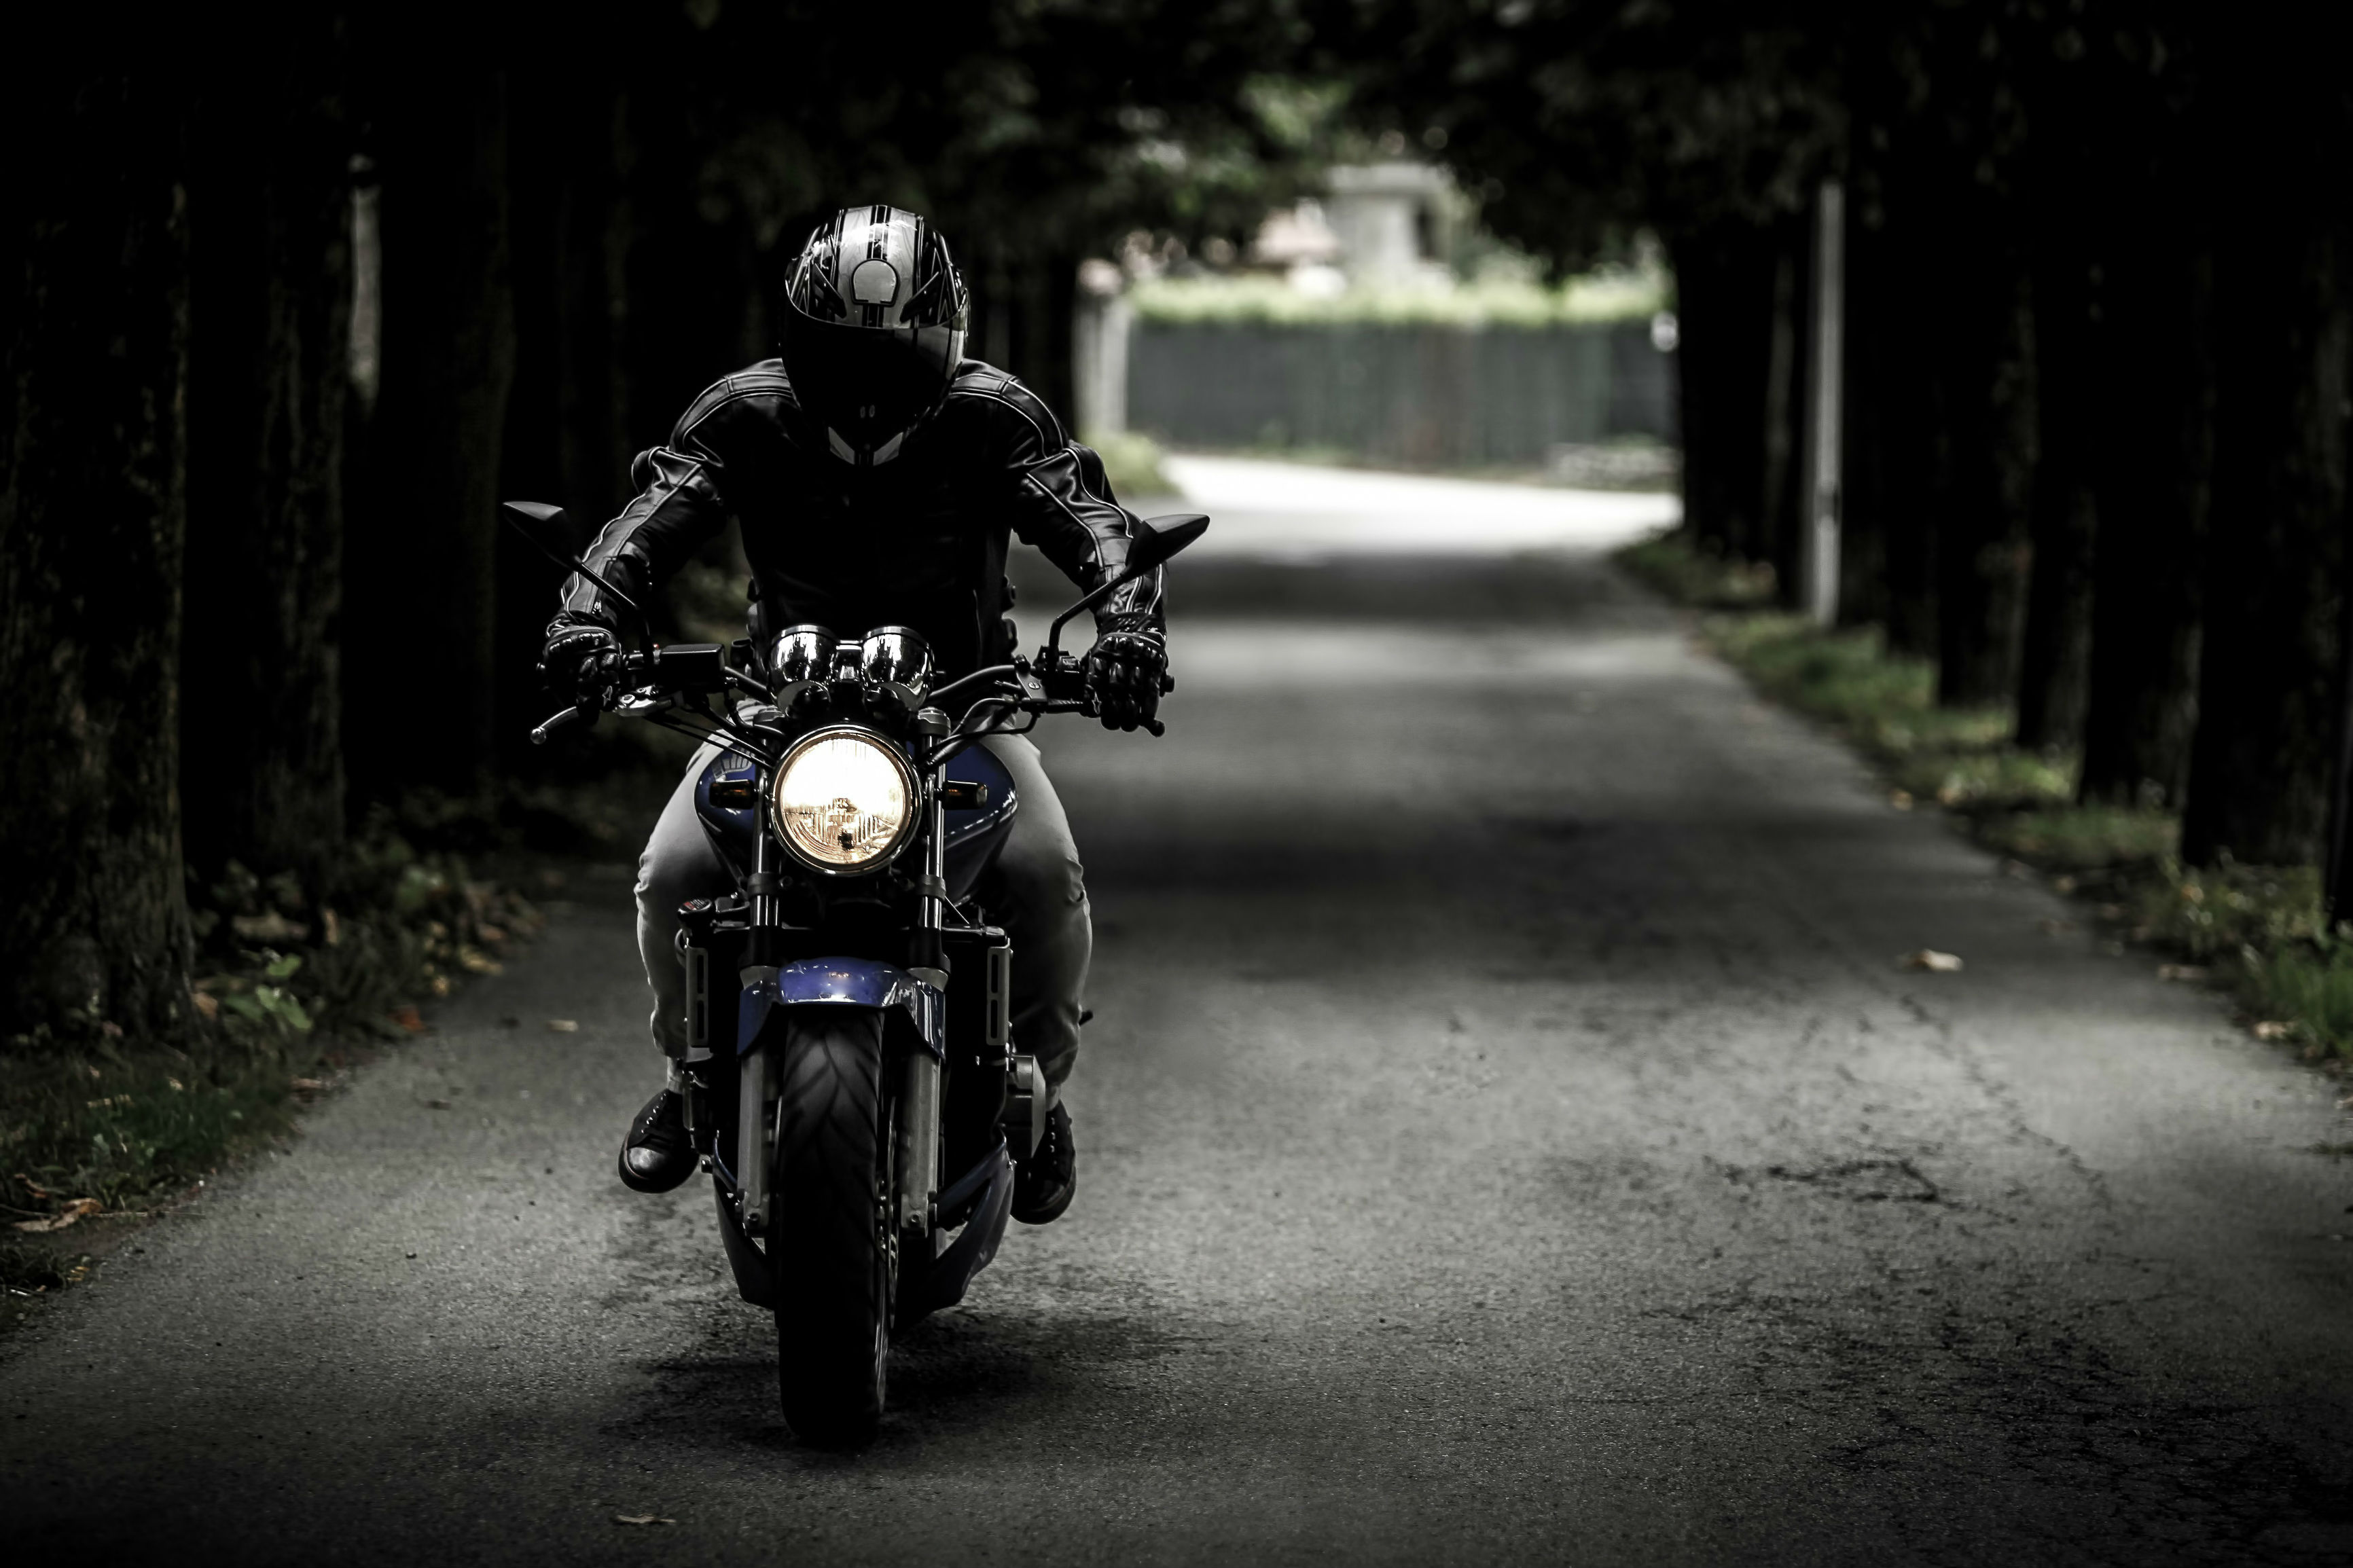helmet: (781, 194, 980, 472)
